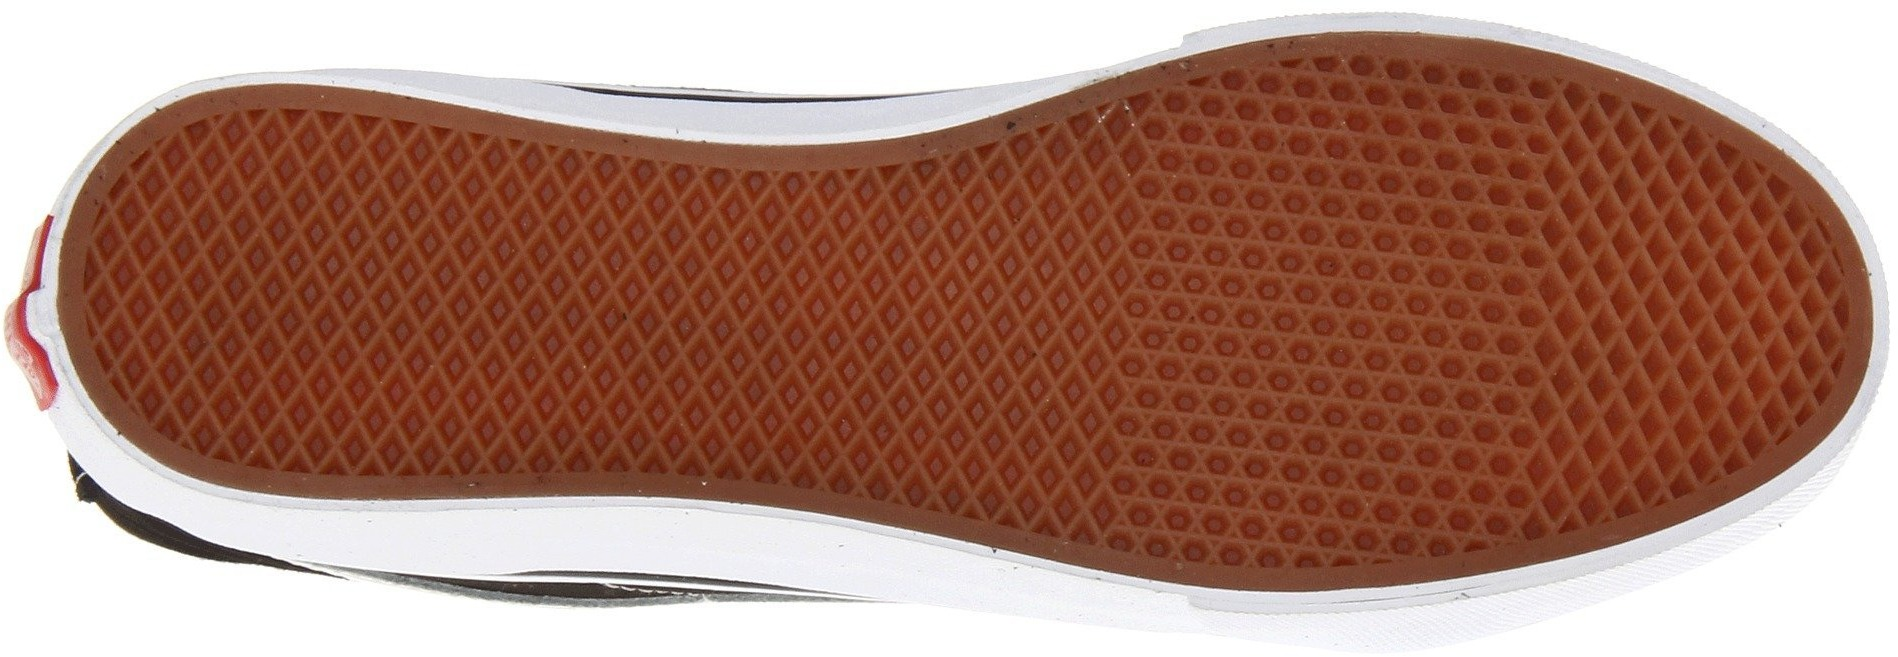polygon: (1353, 96, 1561, 283), (1156, 299, 1367, 477), (1161, 96, 1346, 295), (1376, 298, 1538, 461)
quad: (1568, 155, 1790, 384), (545, 165, 782, 375), (320, 148, 541, 373), (794, 175, 989, 370), (103, 202, 317, 378), (999, 142, 1154, 292), (993, 302, 1131, 439), (841, 378, 966, 494)
triangle: (1353, 96, 1561, 283), (1156, 299, 1367, 477), (1161, 96, 1346, 295), (1376, 298, 1538, 461)
